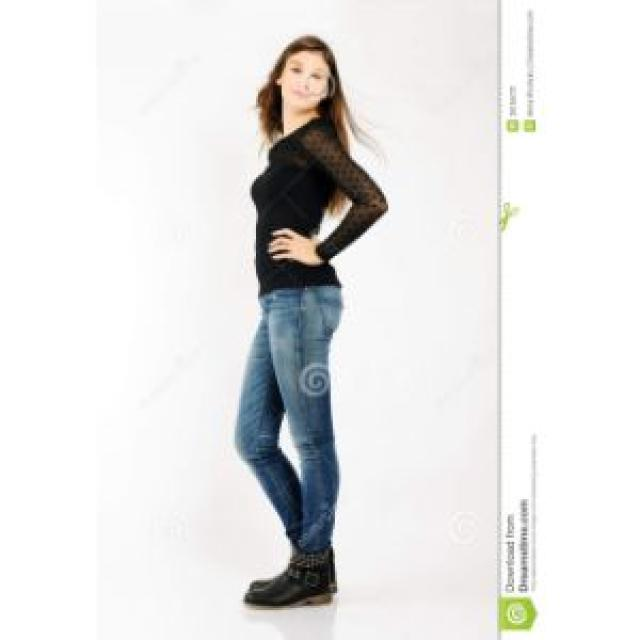adult: (203, 6, 401, 621)
